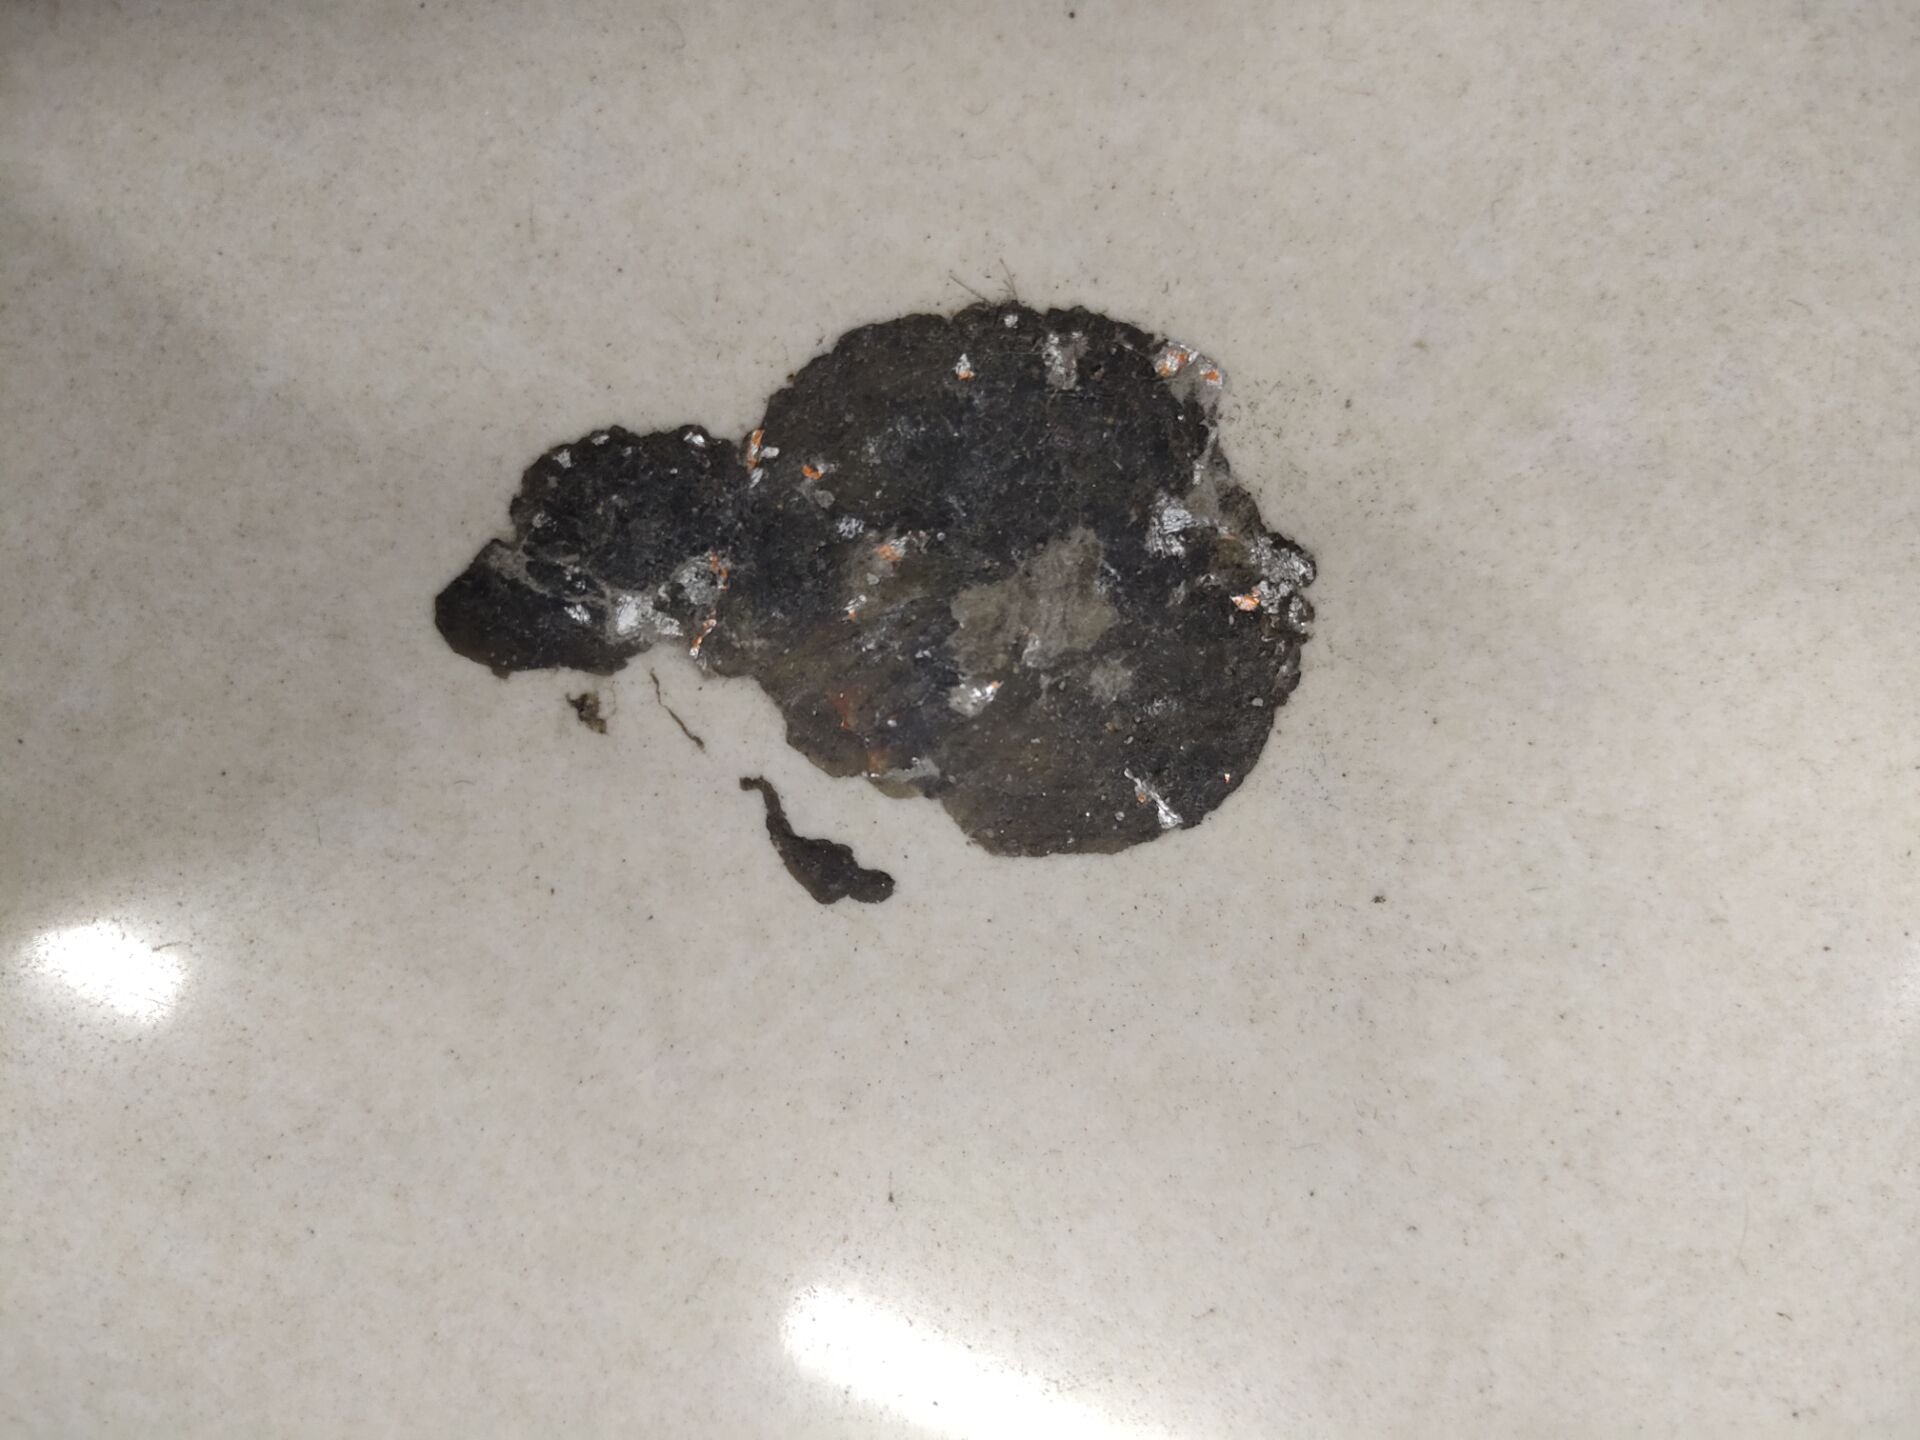grey spot: (432, 296, 1315, 861), (739, 774, 897, 908)
